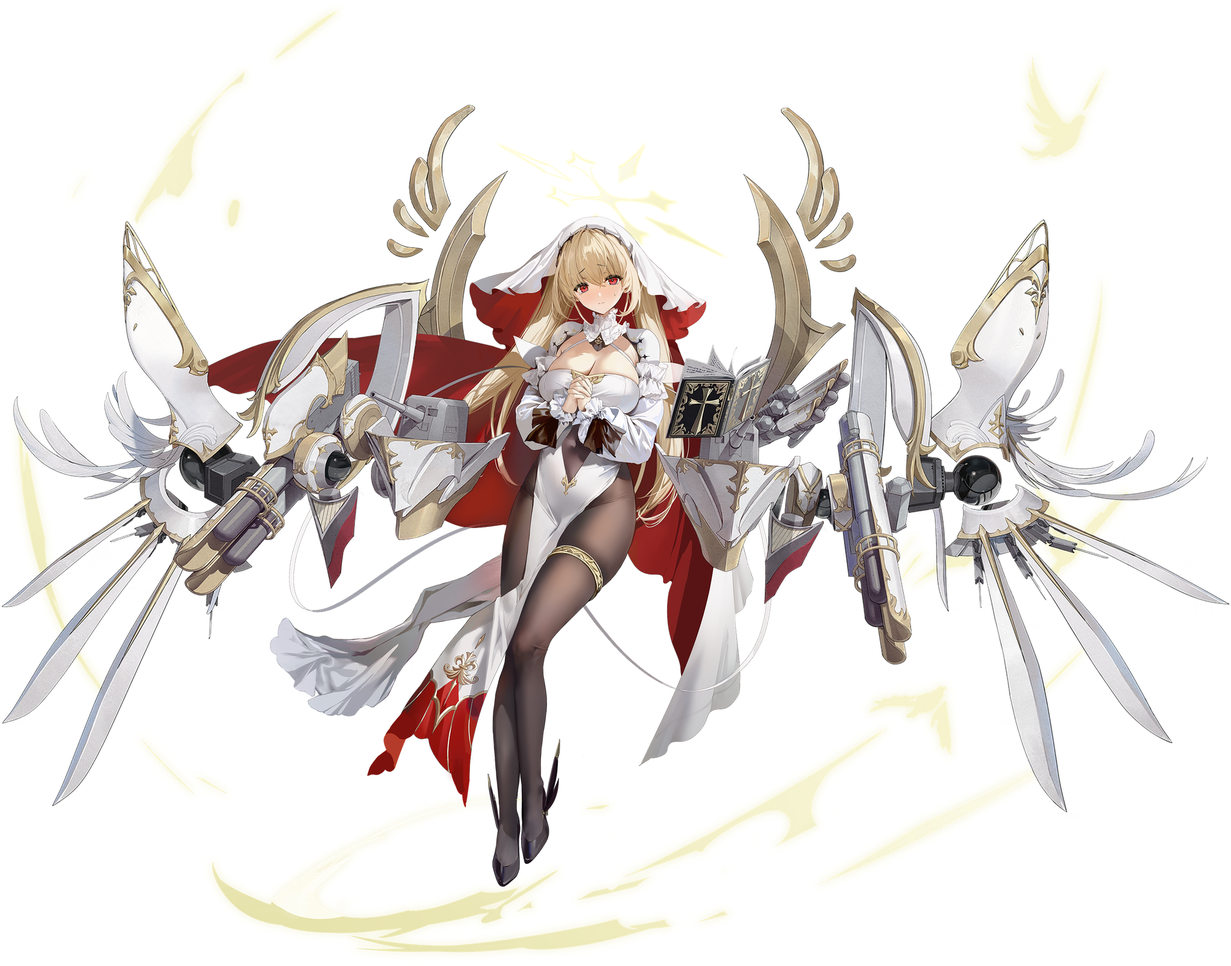person: (424, 157, 722, 939)
